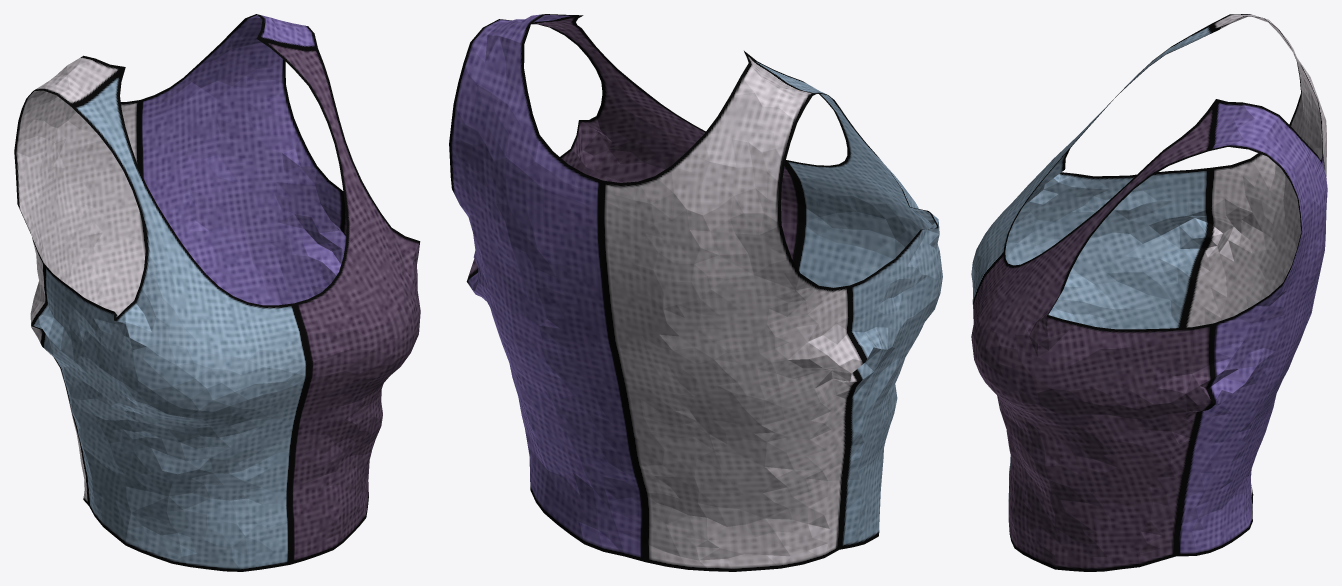
File: tank_knit4_c65m_sim.obj
3 renders of one model, left to right at view 1: azimuth 30°, elevation 25°; view 2: azimuth 150°, elevation 25°; view 3: azimuth 270°, elevation 25°, orthographic. The views are drawn at different scales.
Bounding box in the file's own units: 22.49 × 29.46 × 20.32.
Materials: 1 (1 with a texture image).
